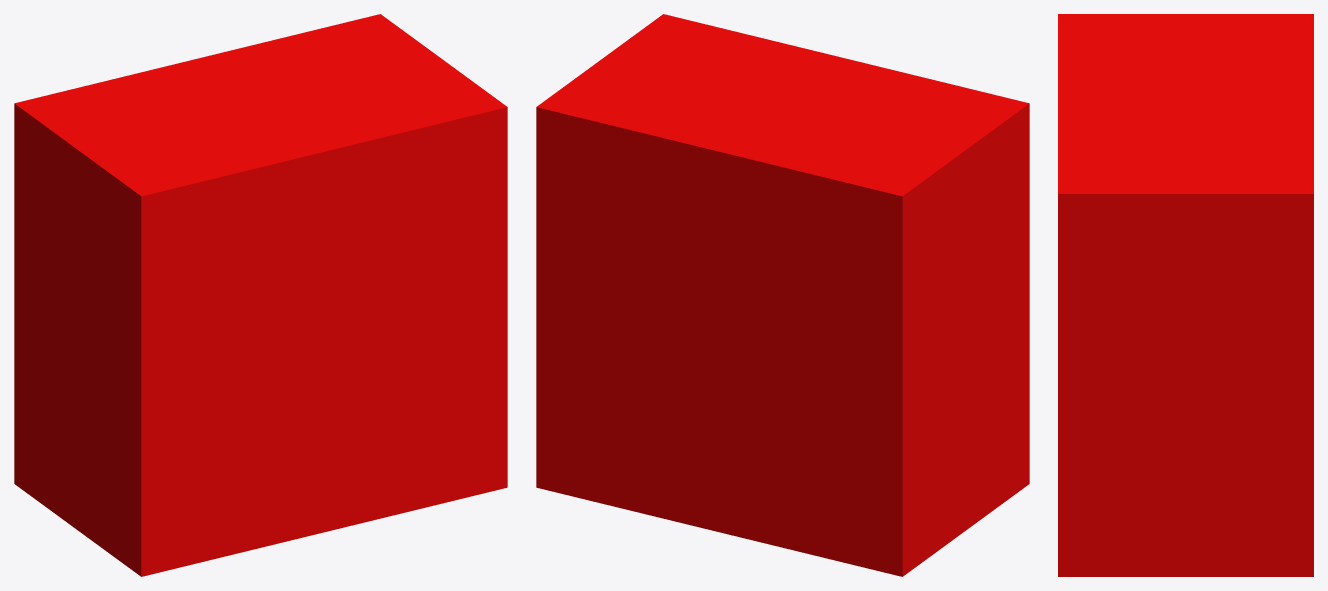
The model's file is thoracic5_s_col.dae.
The picture shows the model from 3 angles, left to right: view 1: azimuth 30°, elevation 25°; view 2: azimuth 150°, elevation 25°; view 3: azimuth 270°, elevation 25°; orthographic projection.
Parts seen in each view (by area): view 1: node0; view 2: node0; view 3: node0.
Part boxes in pixels (x1=…): node0: x1=14, y1=14, x2=507, y2=576; node0: x1=536, y1=14, x2=1029, y2=576; node0: x1=1058, y1=14, x2=1313, y2=576.
Bounding box in the file's own units: 0.0741 × 0.0736 × 0.0446.
